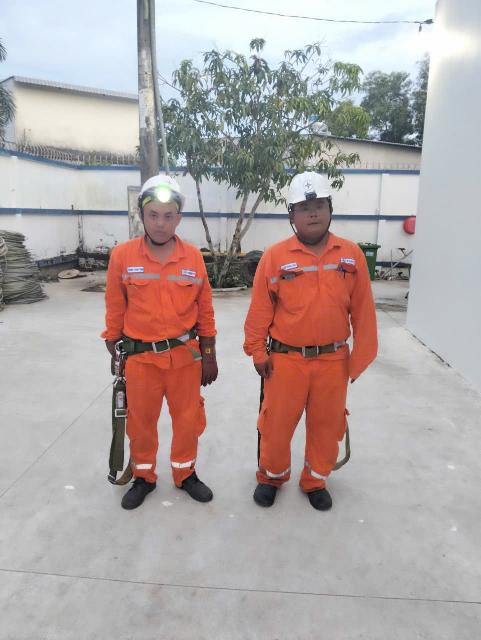gloves: (183, 320, 221, 399), (89, 318, 127, 378)
harness: (93, 325, 207, 359), (247, 333, 360, 358)
helmet: (278, 163, 336, 209), (132, 171, 189, 217)
shoes: (295, 461, 346, 515), (117, 462, 163, 515), (241, 458, 285, 512), (172, 467, 223, 511)
